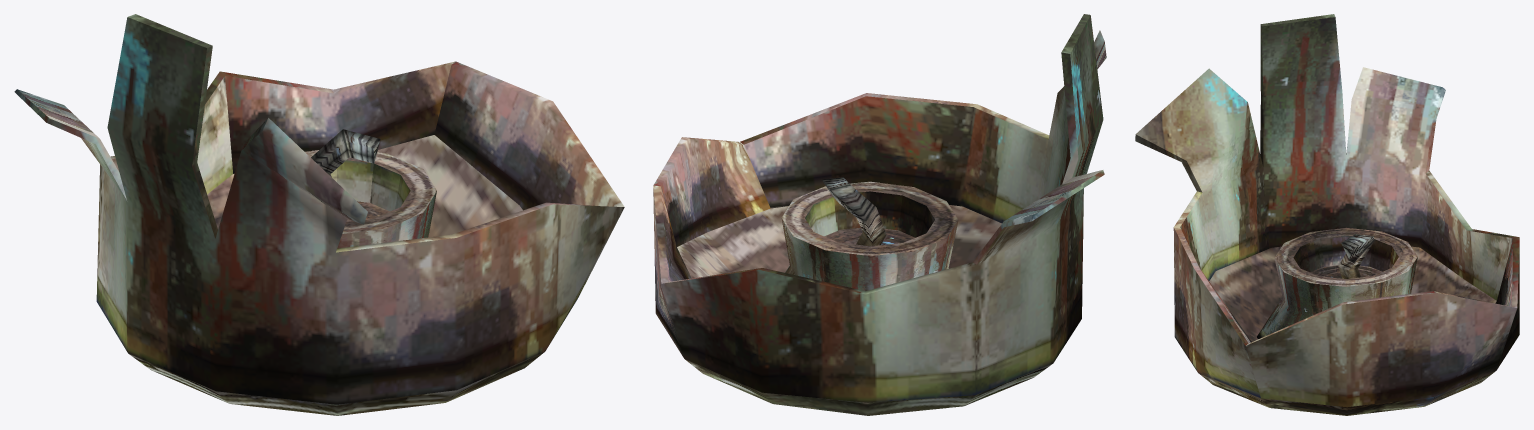
Rendered from CuttedCan.fbx.
3 renders of one model, left to right at view 1: azimuth 30°, elevation 25°; view 2: azimuth 150°, elevation 25°; view 3: azimuth 270°, elevation 25°, orthographic. The views are drawn at different scales.
Parts seen in each view (by area): view 1: mesh_0.007; view 2: mesh_0.007; view 3: mesh_0.007.
Boxes of the visible parts, box(x1,y1,x2,y2) form: mesh_0.007: box(14, 14, 624, 415); mesh_0.007: box(653, 14, 1106, 415); mesh_0.007: box(1135, 14, 1519, 415).
Size of the model in its own units: 0.2374 by 0.1685 by 0.2229.
